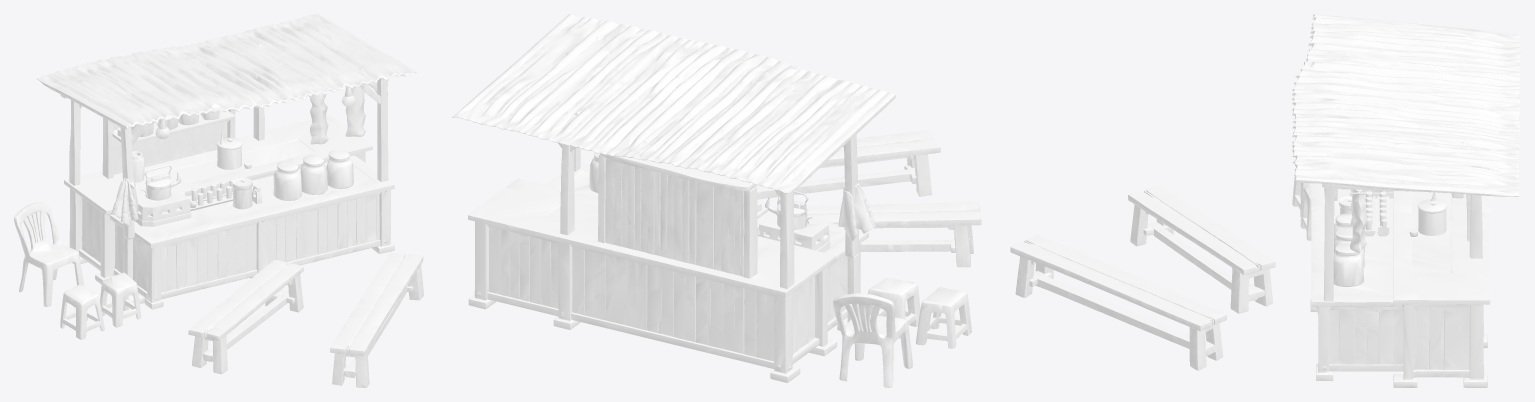
File: chai-stall.glb
3 views of the same model, side by side, from view 1: azimuth 30°, elevation 25°; view 2: azimuth 150°, elevation 25°; view 3: azimuth 270°, elevation 25° (orthographic). The views are drawn at different scales.
Parts seen in each view (by area): view 1: model; view 2: model; view 3: model.
Boxes of the visible parts, x1,y1,x2,y2 form: model: (14, 14, 423, 387); model: (452, 14, 981, 387); model: (1010, 14, 1520, 387).
Bounding box in the file's own units: 1.67 × 0.9152 × 1.9.
Materials: 1 (1 with a texture image).
